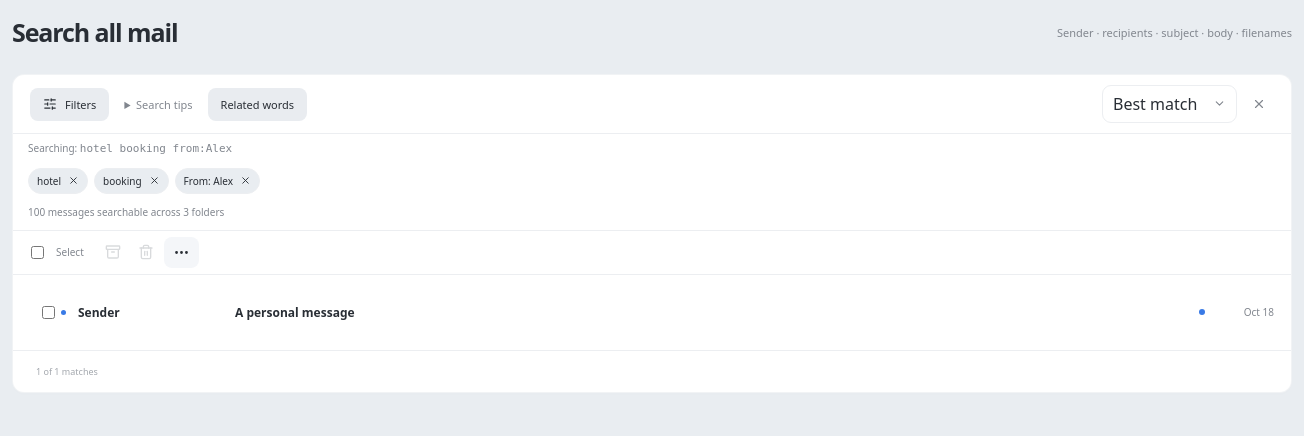
personal Outlook reader › uses related wording only when enabled and shows the expanded conditions
Click the button "Related words". click: (257, 104)
box: [208,88,307,120]
Wait 350 ms
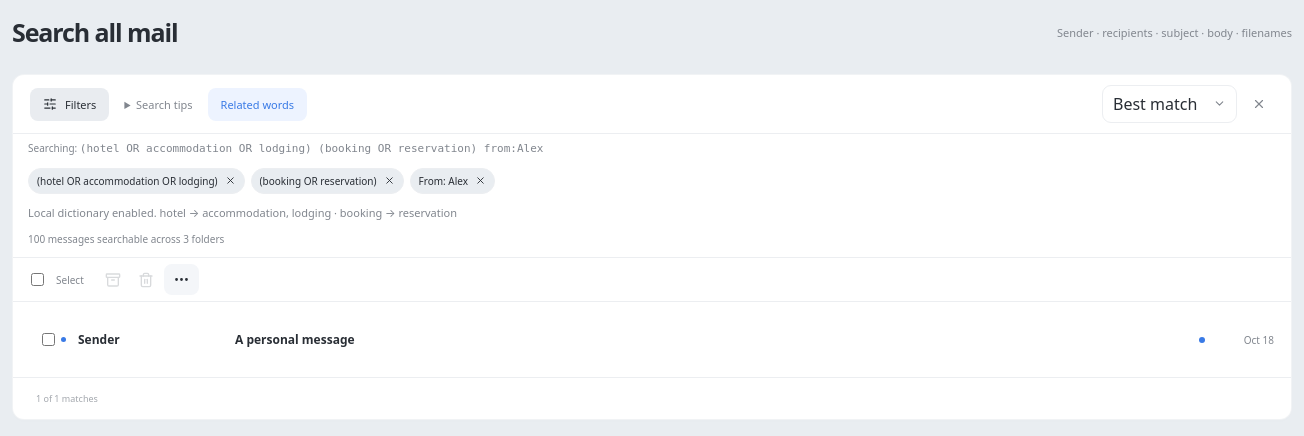
Result: the text "(hotel OR accommodation OR lodging) (booking OR reservation) from:Alex" is shown at [80,142,543,155]
Result: the text "Local dictionary enabled" is shown at [28,205,157,220]
